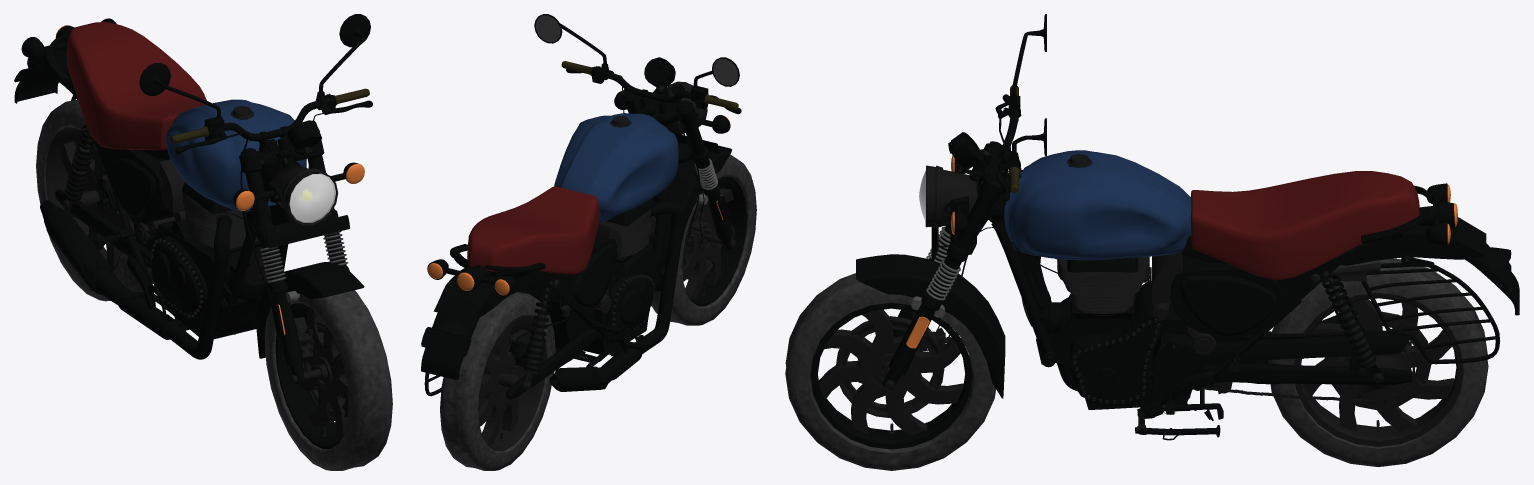
The model's file is hunter-350.glb.
3 views of the same model, side by side, from view 1: azimuth 30°, elevation 25°; view 2: azimuth 150°, elevation 25°; view 3: azimuth 270°, elevation 25° (orthographic). The views are drawn at different scales.
Visible parts, largest first — view 1: Chassis_bike_coloraiStandardSurface23, Steering_bike_coloraiStandardSurface23, Chassis_bike_coloraiStandardSurface33, WheelFront_bike_coloraiStandardSurface27, Chassis_bike_coloraiStandardSurface28, Chassis_bike_coloraiStandardSurface32, WheelFront_bike_coloraiStandardSurface32, WheelRear_bike_coloraiStandardSurface32, WheelRear_bike_coloraiStandardSurface27, Steering_bike_coloraiStandardSurface32, WheelFront_bike_coloraiStandardSurface23, Steering_bike_coloraiStandardSurface25 (+4 smaller); view 2: Chassis_bike_coloraiStandardSurface23, Steering_bike_coloraiStandardSurface23, Chassis_bike_coloraiStandardSurface28, Chassis_bike_coloraiStandardSurface33, WheelRear_bike_coloraiStandardSurface27, WheelRear_bike_coloraiStandardSurface32, WheelFront_bike_coloraiStandardSurface27, Chassis_bike_coloraiStandardSurface32, WheelFront_bike_coloraiStandardSurface32, WheelFront_bike_coloraiStandardSurface23, Steering_bike_coloraiStandardSurface32, Steering_bike_coloraiStandardSurface37 (+3 smaller); view 3: Chassis_bike_coloraiStandardSurface23, Steering_bike_coloraiStandardSurface23, Chassis_bike_coloraiStandardSurface33, Chassis_bike_coloraiStandardSurface28, WheelRear_bike_coloraiStandardSurface27, WheelFront_bike_coloraiStandardSurface27, WheelRear_bike_coloraiStandardSurface32, WheelFront_bike_coloraiStandardSurface32, Chassis_bike_coloraiStandardSurface32, WheelFront_bike_coloraiStandardSurface23, Steering_bike_coloraiStandardSurface32, Steering_bike_coloraiStandardSurface31.
Part boxes in pixels (x1,y1,x2,y2): Chassis_bike_coloraiStandardSurface23: [14, 18, 273, 359]; Steering_bike_coloraiStandardSurface23: [139, 14, 372, 384]; Chassis_bike_coloraiStandardSurface33: [66, 22, 206, 150]; WheelFront_bike_coloraiStandardSurface27: [265, 290, 392, 470]; Chassis_bike_coloraiStandardSurface28: [166, 99, 306, 212]; Chassis_bike_coloraiStandardSurface32: [62, 106, 271, 331]; WheelFront_bike_coloraiStandardSurface32: [294, 307, 348, 441]; WheelRear_bike_coloraiStandardSurface32: [45, 127, 122, 271]; WheelRear_bike_coloraiStandardSurface27: [36, 99, 152, 301]; Steering_bike_coloraiStandardSurface32: [245, 137, 337, 384]; WheelFront_bike_coloraiStandardSurface23: [275, 303, 344, 448]; Steering_bike_coloraiStandardSurface25: [289, 173, 335, 222]; Chassis_bike_coloraiStandardSurface23: [421, 169, 704, 399]; Steering_bike_coloraiStandardSurface23: [534, 14, 741, 291]; Chassis_bike_coloraiStandardSurface28: [554, 113, 678, 223]; Chassis_bike_coloraiStandardSurface33: [467, 186, 598, 274]; WheelRear_bike_coloraiStandardSurface27: [440, 291, 555, 470]; WheelRear_bike_coloraiStandardSurface32: [478, 316, 546, 450]; WheelFront_bike_coloraiStandardSurface27: [651, 154, 756, 325]; Chassis_bike_coloraiStandardSurface32: [498, 116, 654, 389]; WheelFront_bike_coloraiStandardSurface32: [682, 188, 734, 298]; WheelFront_bike_coloraiStandardSurface23: [686, 177, 747, 306]; Steering_bike_coloraiStandardSurface32: [649, 81, 735, 247]; Steering_bike_coloraiStandardSurface37: [535, 15, 738, 85]; Chassis_bike_coloraiStandardSurface23: [937, 183, 1519, 440]; Steering_bike_coloraiStandardSurface23: [856, 14, 1064, 398]; Chassis_bike_coloraiStandardSurface33: [1190, 171, 1419, 280]; Chassis_bike_coloraiStandardSurface28: [1004, 150, 1191, 260]; WheelRear_bike_coloraiStandardSurface27: [1268, 258, 1488, 466]; WheelFront_bike_coloraiStandardSurface27: [785, 273, 995, 470]; WheelRear_bike_coloraiStandardSurface32: [1294, 293, 1463, 446]; WheelFront_bike_coloraiStandardSurface32: [819, 309, 963, 435]; Chassis_bike_coloraiStandardSurface32: [1057, 154, 1415, 430]; WheelFront_bike_coloraiStandardSurface23: [810, 303, 972, 449]; Steering_bike_coloraiStandardSurface32: [882, 150, 1032, 389]; Steering_bike_coloraiStandardSurface31: [911, 226, 960, 317].
Bounding box in the file's own units: 0.8026 × 1.23 × 2.07.
15 materials, 1 textured.
